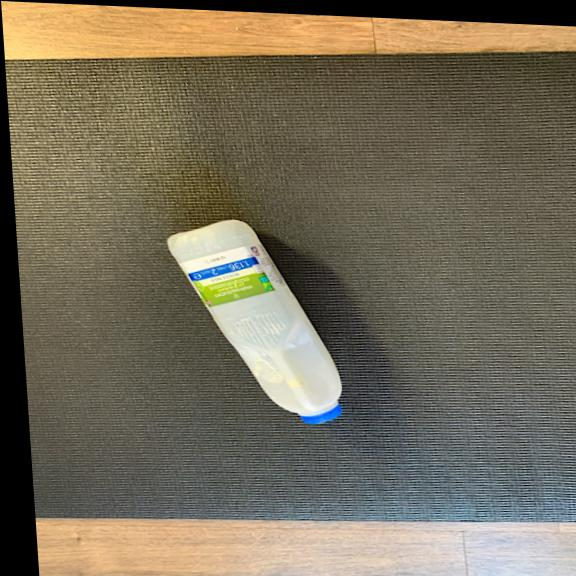Plastik: (157, 209, 346, 425)
